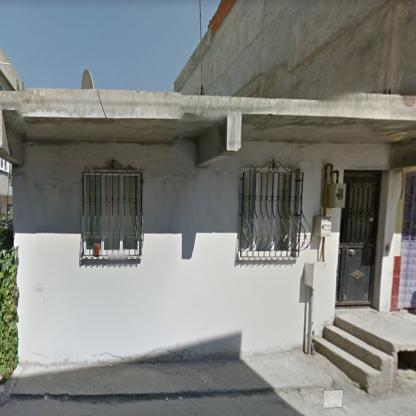door: (337, 170, 381, 305), (398, 172, 415, 307)
window: (238, 170, 294, 256), (84, 174, 138, 254)
